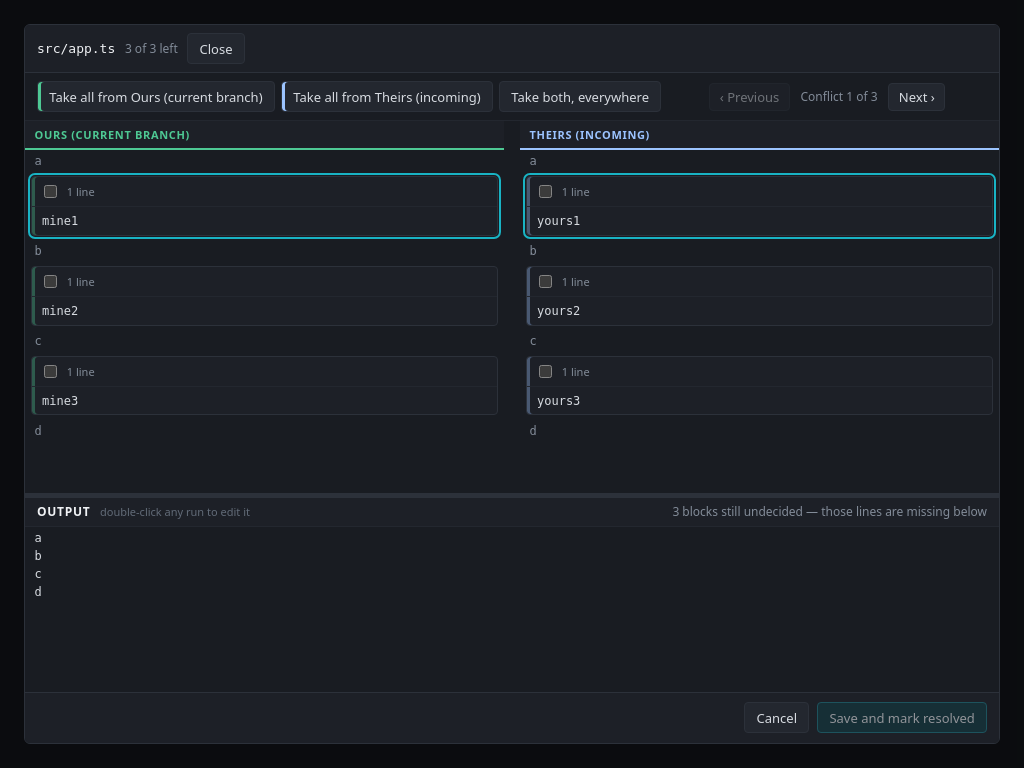
Test: walking the conflicts › stops at the ends instead of wrapping round without saying so
Expected: the text "Conflict 1 of 3" is shown, [798,88,880,105]
Expected: the button "‹ Previous" is disabled, [709,83,790,111]
Click the button "Next ›". click: (917, 97)
box: [888,83,945,111]
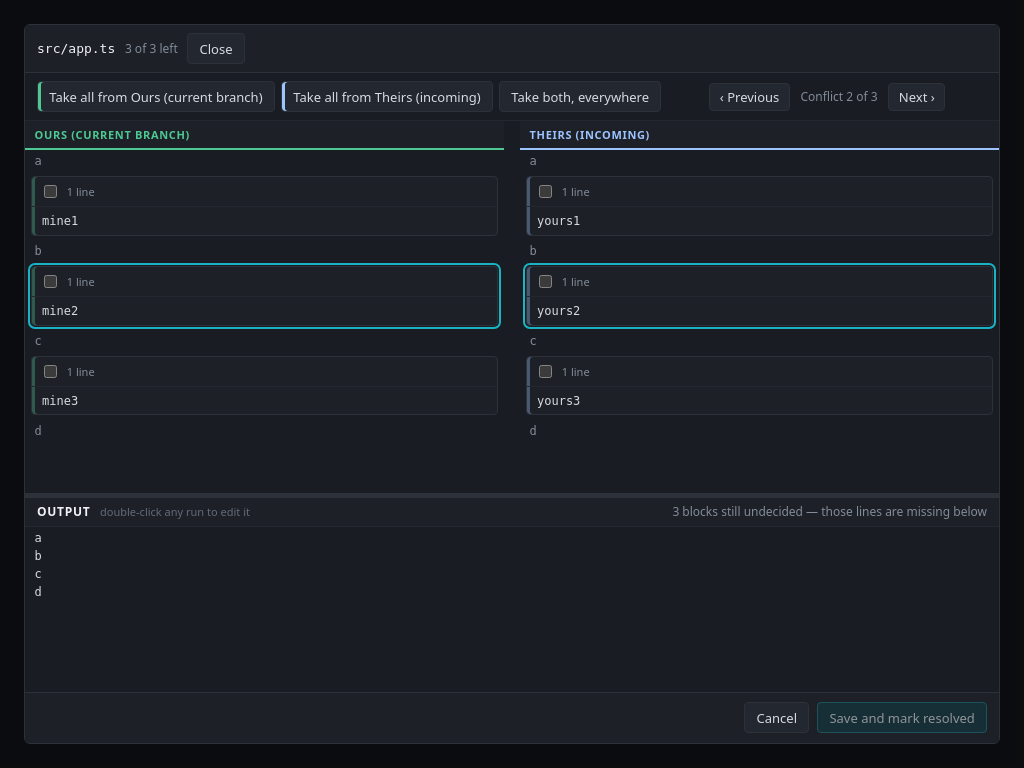
Click the button "Next ›". click: (917, 97)
box: [888,83,945,111]
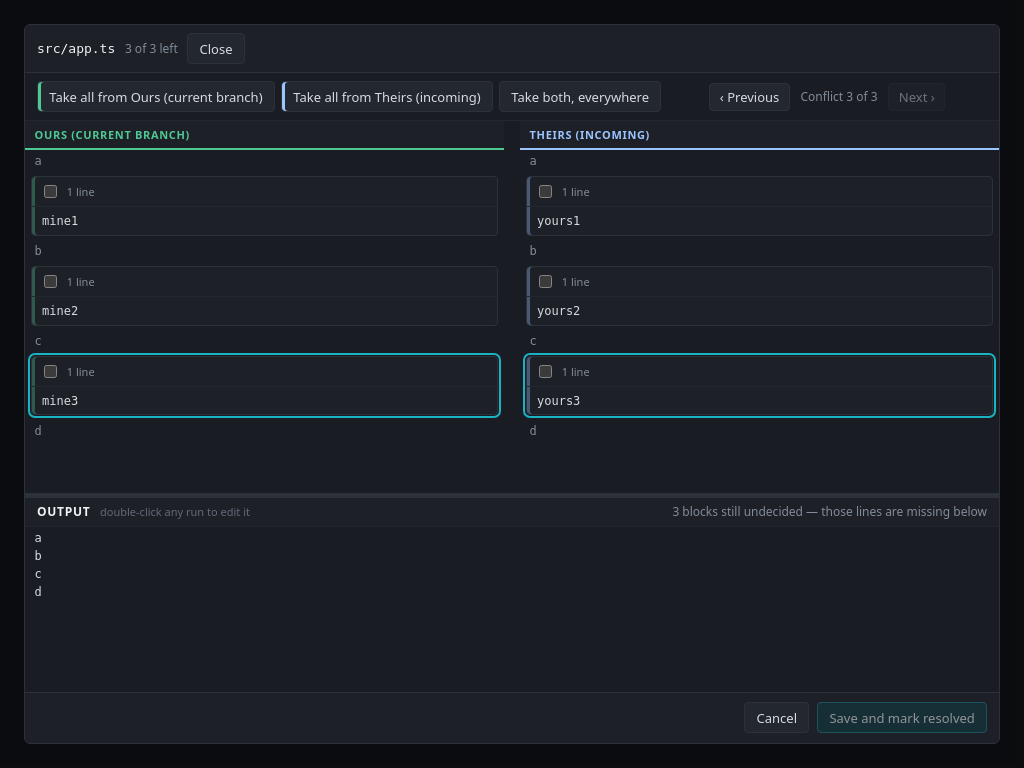
Expected: the text "Conflict 3 of 3" is shown, [798,88,880,105]
Expected: the button "Next ›" is disabled, [888,83,945,111]
Click the button "‹ Previous". click: (750, 97)
box: [709,83,790,111]
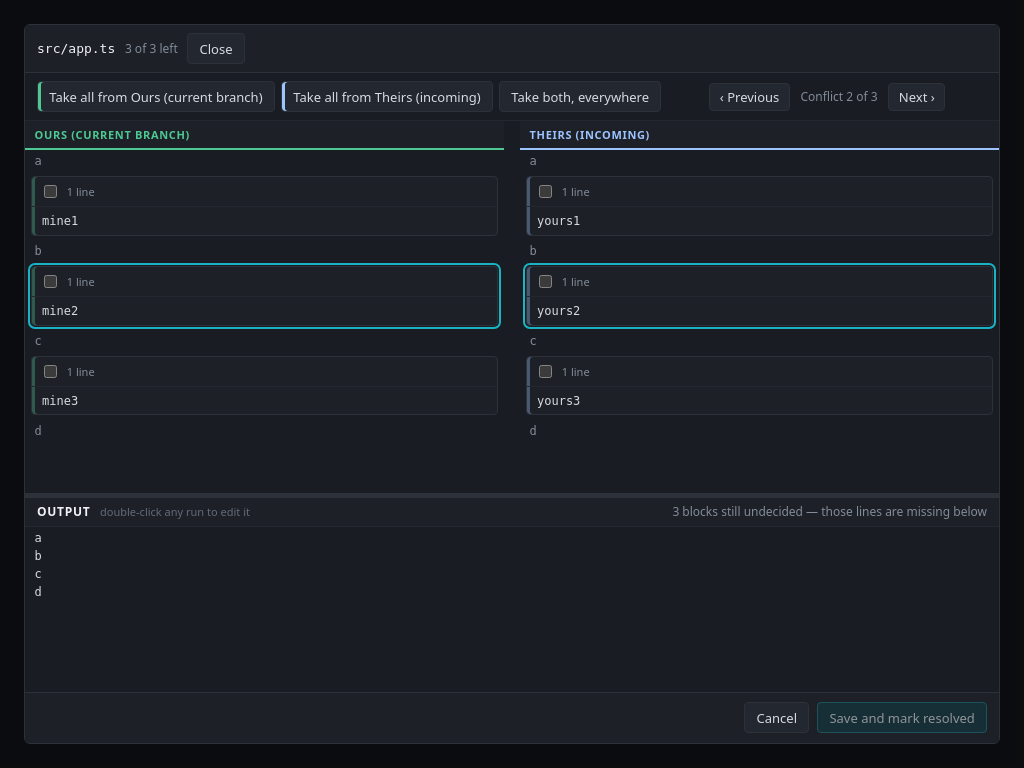
Expected: the text "Conflict 2 of 3" is shown, [798,88,880,105]
